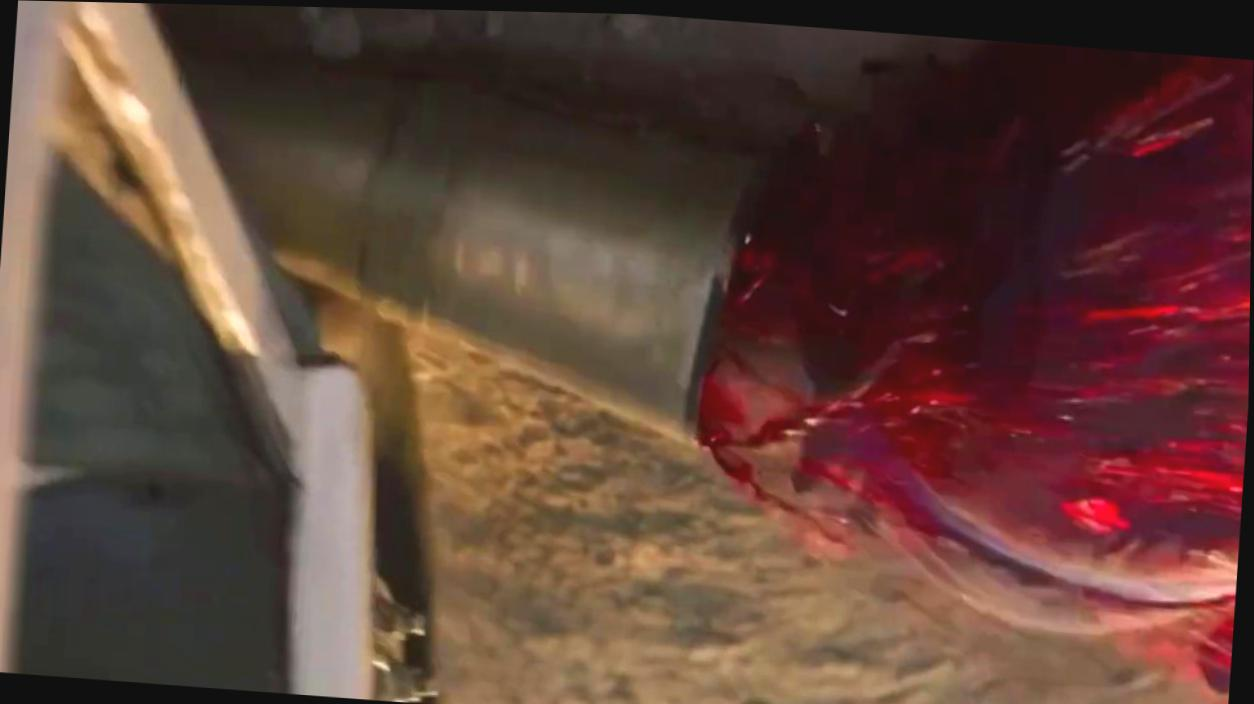Fire: (695, 37, 1254, 687)
